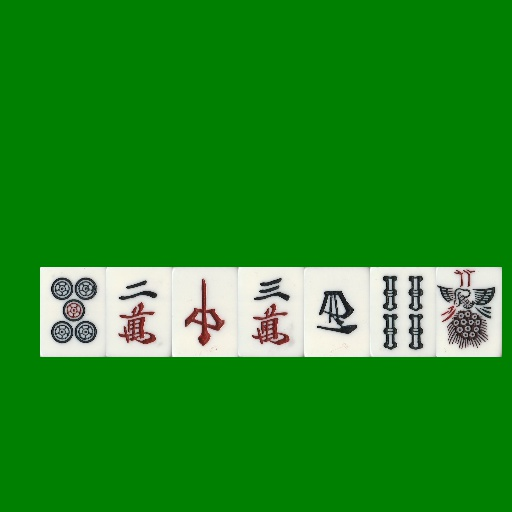1s: (436, 267, 502, 357)
2m: (106, 267, 172, 357)
3m: (238, 267, 304, 357)
4s: (370, 267, 436, 357)
5p: (40, 267, 106, 357)
tyun: (172, 267, 238, 357)
west: (304, 267, 370, 357)
